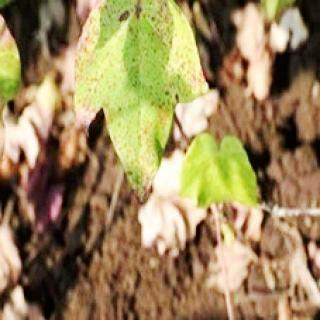leaf spot: (72, 1, 208, 123)
